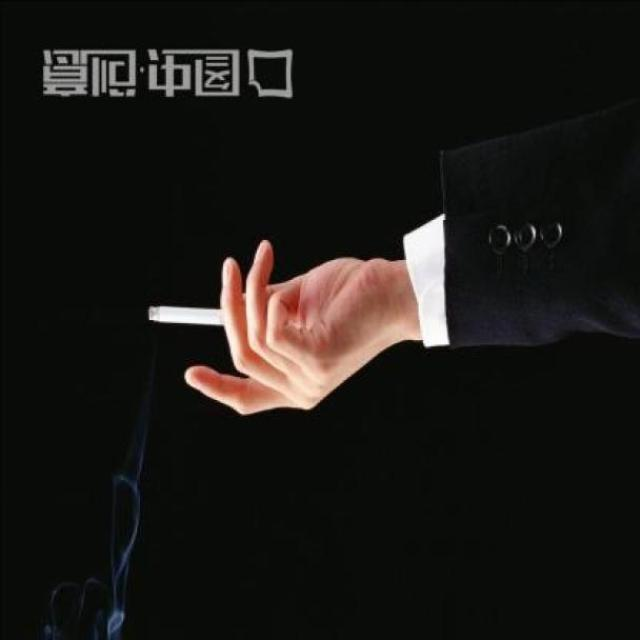rokok: (143, 298, 233, 334)
